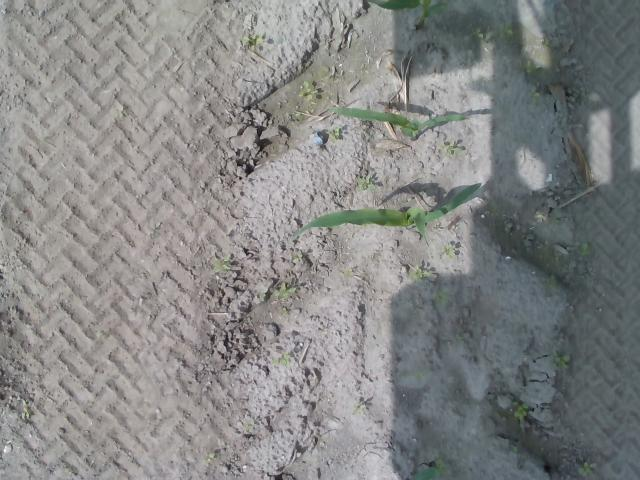Maize: (289, 183, 482, 234), (326, 107, 468, 142), (367, 0, 447, 29)
Weeds: (260, 284, 298, 302), (532, 210, 561, 224), (550, 350, 570, 370), (241, 32, 265, 48), (298, 78, 315, 100), (576, 461, 596, 477), (356, 176, 376, 192), (410, 266, 432, 280), (212, 255, 230, 271), (512, 402, 528, 420), (444, 142, 464, 156), (19, 398, 31, 420), (434, 290, 450, 305), (545, 274, 560, 289), (326, 126, 341, 141), (498, 22, 512, 38), (470, 26, 486, 39), (288, 251, 304, 263), (435, 456, 446, 472), (203, 450, 215, 464), (442, 244, 456, 256), (274, 355, 290, 365), (578, 240, 588, 255), (526, 90, 540, 100), (280, 306, 289, 316)
